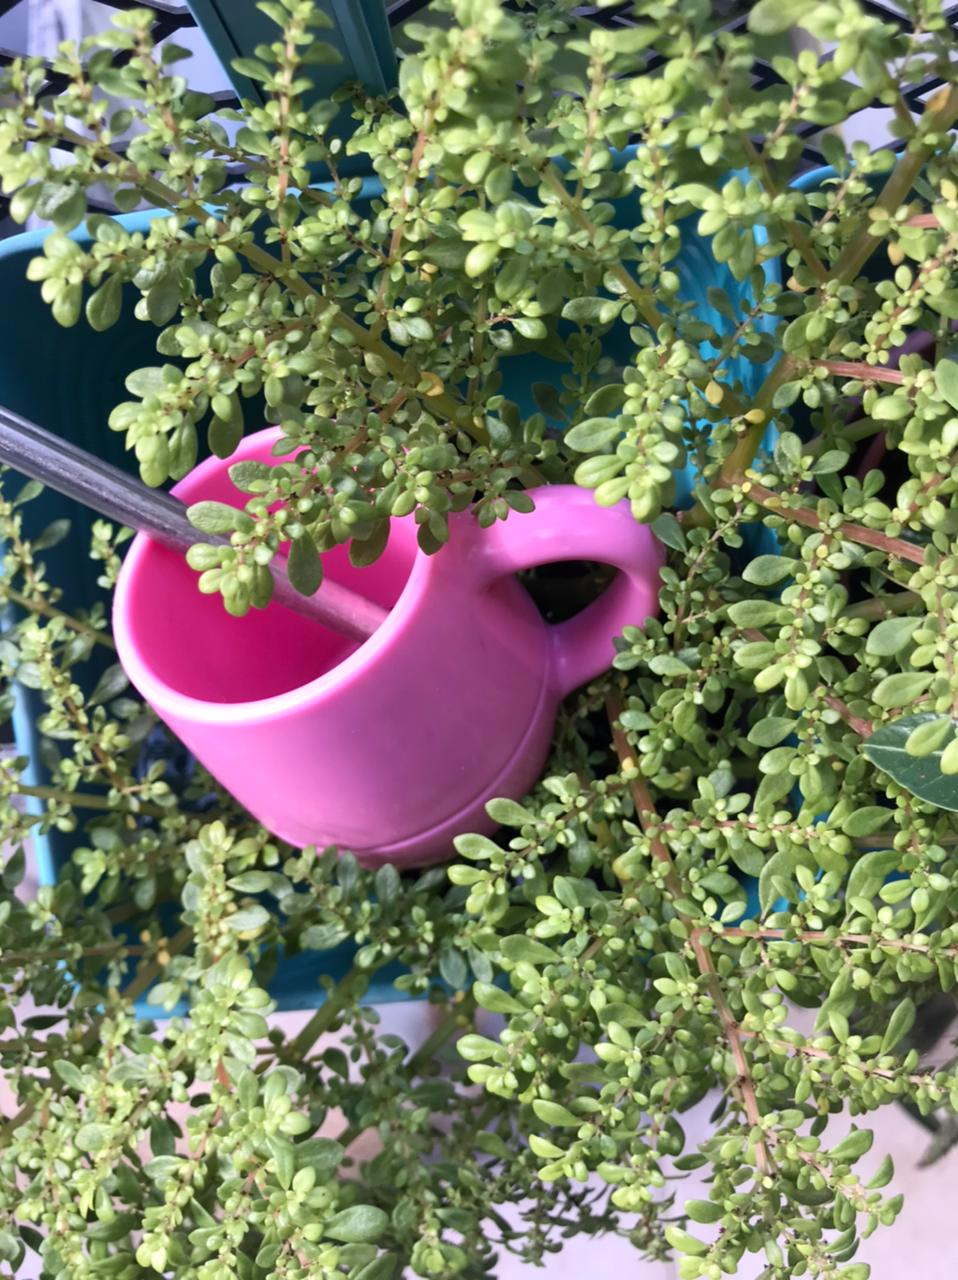mate: (8, 357, 674, 872)
